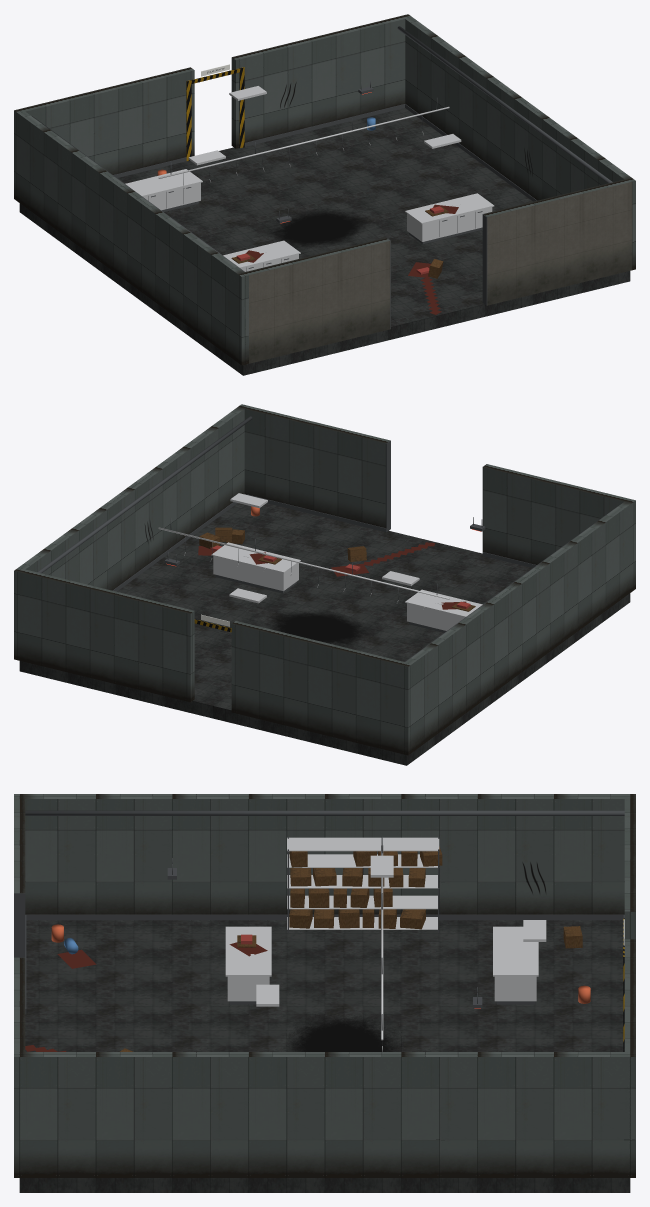
The model's file is feeding.glb.
3 renders of one model, top to bottom at view 1: azimuth 30°, elevation 25°; view 2: azimuth 150°, elevation 25°; view 3: azimuth 270°, elevation 25°, orthographic. The views are drawn at different scales.
Visible parts, largest first — view 1: Room_feeding; view 2: Room_feeding; view 3: Room_feeding.
Boxes of the visible parts, bbox=[...] form: Room_feeding: bbox=[14, 14, 635, 375]; Room_feeding: bbox=[14, 404, 635, 765]; Room_feeding: bbox=[14, 794, 635, 1192].
Bounding box in the file's own units: 16.3 × 4 × 16.3.
Materials: 16 (7 with a texture image).
